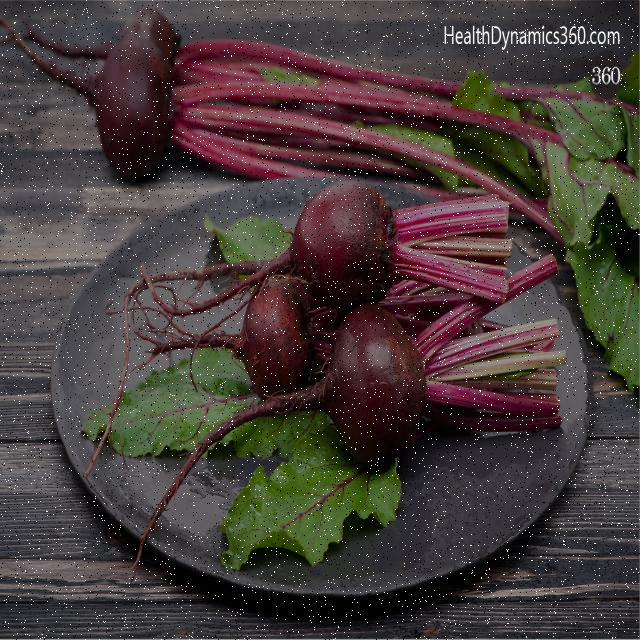Beetroot: (236, 185, 423, 471), (59, 15, 189, 183)
